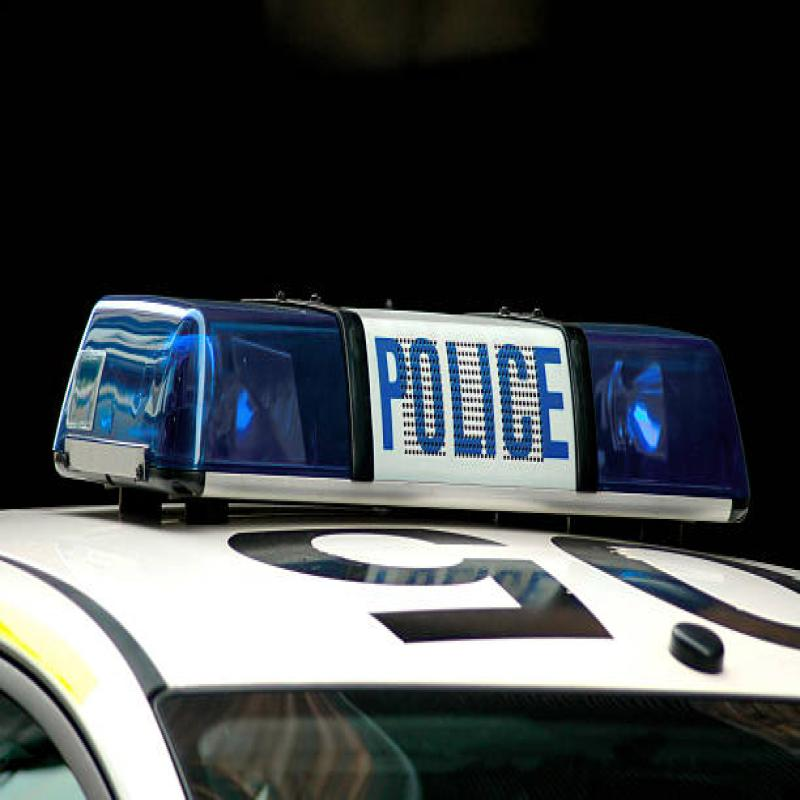AmbulanceSiren: (44, 260, 788, 549)
